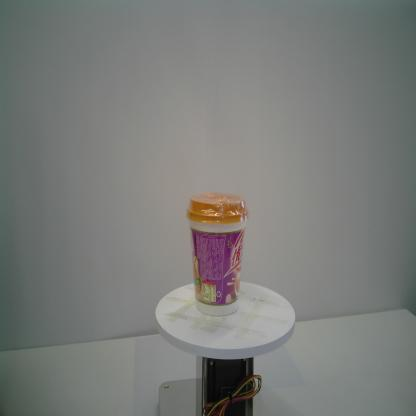Instant Drink: (186, 192, 249, 316)
